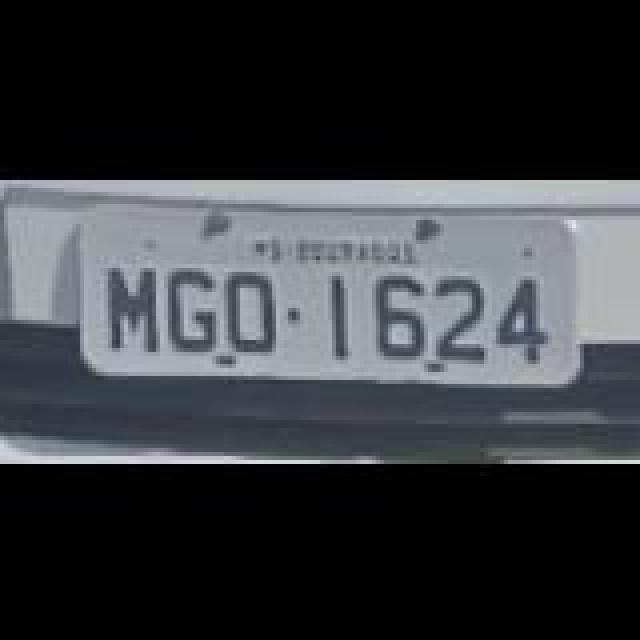1: (330, 270, 350, 354)
2: (436, 272, 492, 360)
4: (498, 272, 550, 360)
6: (376, 274, 432, 358)
G: (170, 266, 222, 350)
M: (104, 264, 160, 352)
O: (224, 268, 280, 348)
